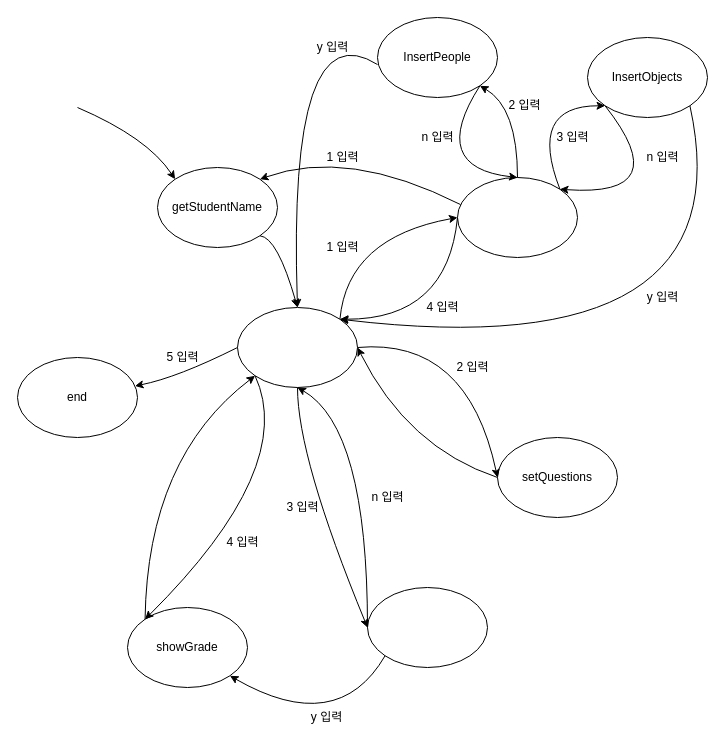
The diagram is 725 pixels wide and 745 high, and some of its shapes have lost their labels. Each missing label, with the box of its shape:
InsertInfoForStudent: (456, 176, 578, 258)
MainMenu: (236, 306, 358, 388)
solveQuestions: (366, 586, 488, 668)
